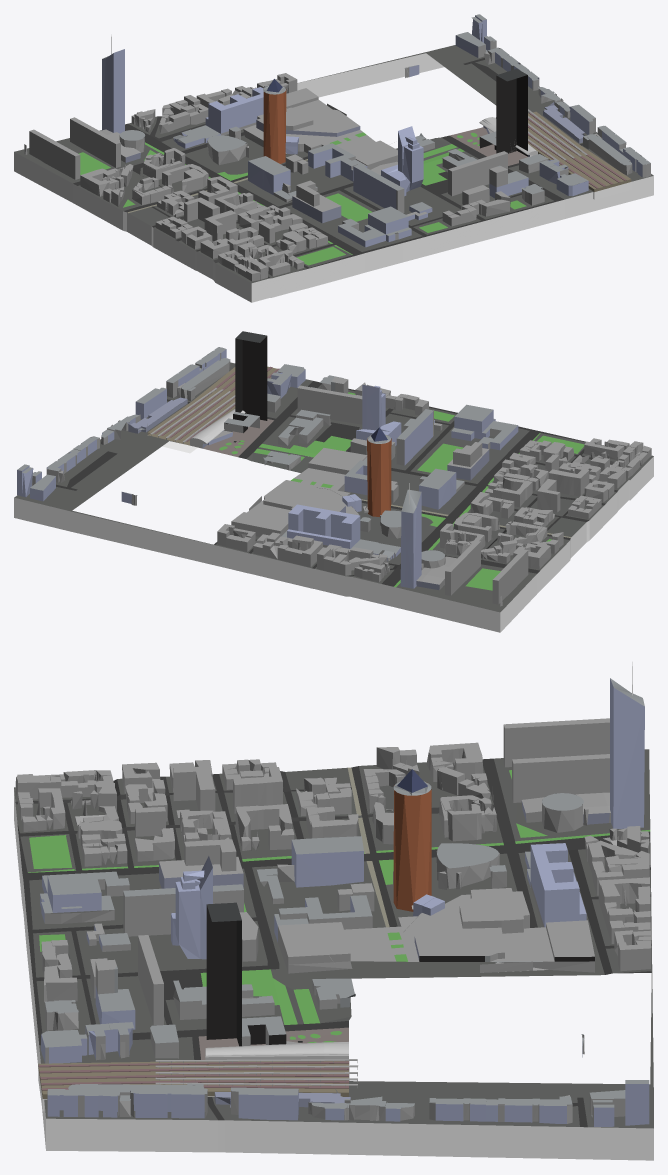
The model's file is global.glb.
3 renders of one model, top to bottom at view 1: azimuth 30°, elevation 25°; view 2: azimuth 150°, elevation 25°; view 3: azimuth 270°, elevation 25°, orthographic. The views are drawn at different scales.
Parts seen in each view (by area): view 1: global; view 2: global; view 3: global.
Boxes of the visible parts, box(x1,y1,x2,y2) form: global: box(14, 14, 653, 302); global: box(14, 331, 653, 632); global: box(14, 661, 653, 1160).
Size of the model in its own units: 1025 by 252 by 738.
